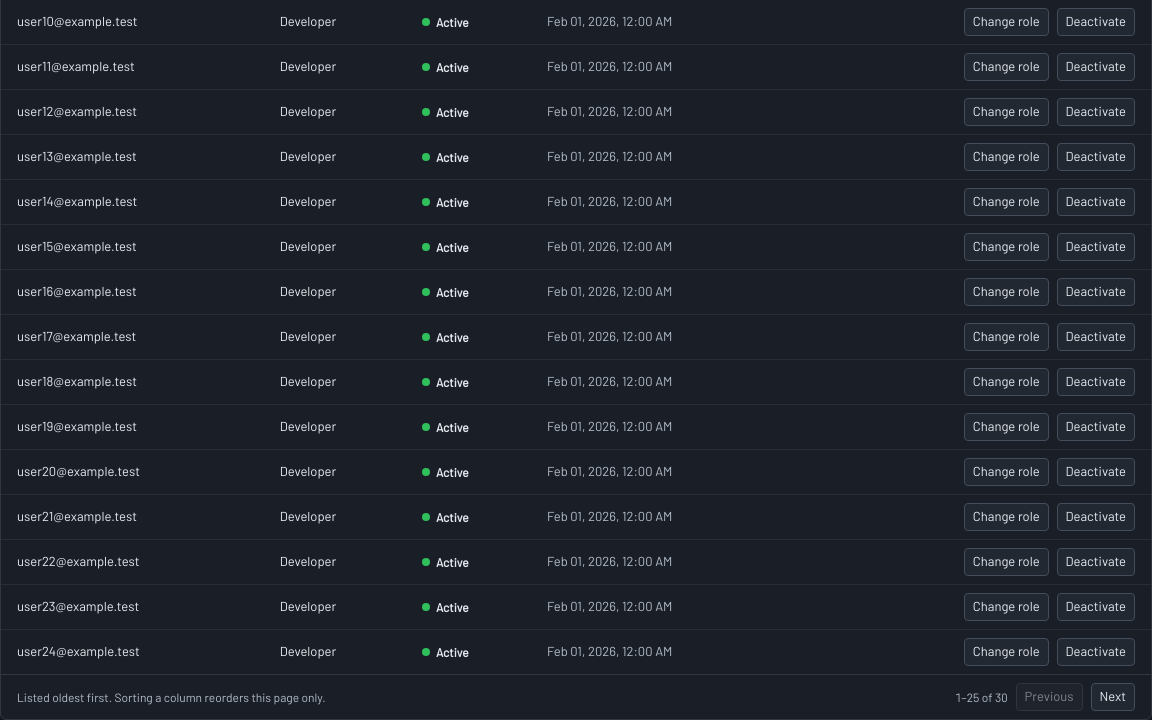
Test: Users › pages through users with the server's pagination
The width and height of the screenshot is (1152, 720).
(page scrolled)
Click the button "Next".
click(1113, 697)  # box top-left (1090, 683), bottom-right (1135, 711)
(page scrolled)
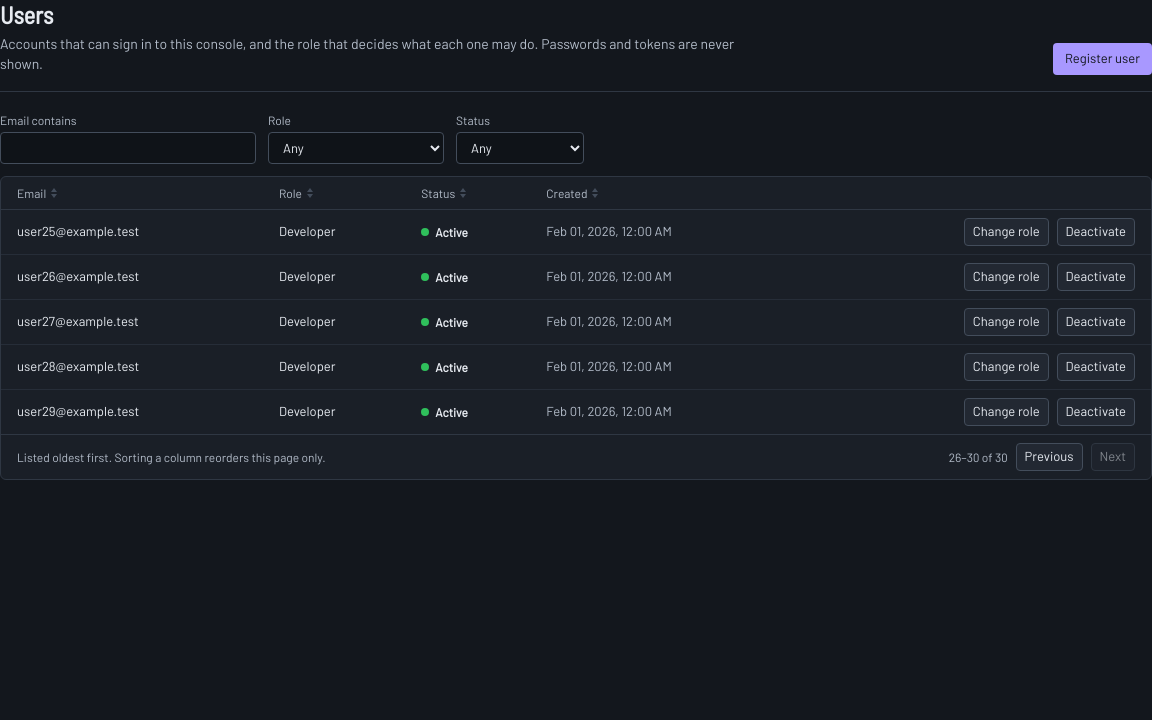
Expected: the text "user25@example.test" is shown, top-left (17, 222), bottom-right (139, 241)
